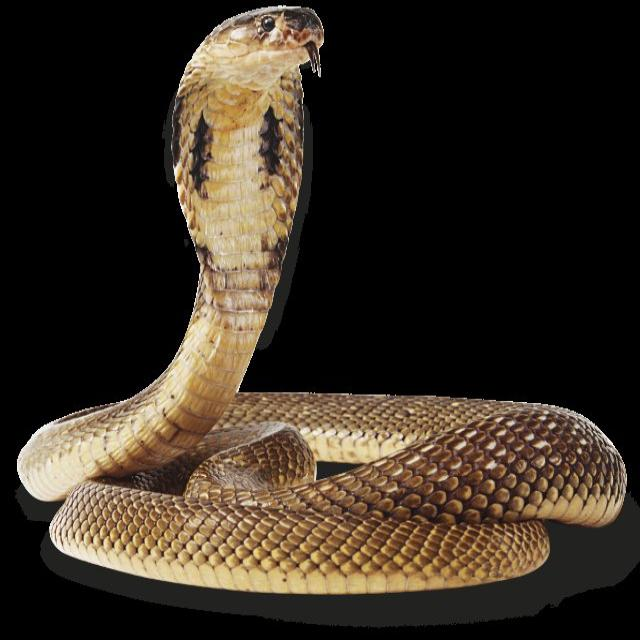Snake: (16, 3, 624, 592)
